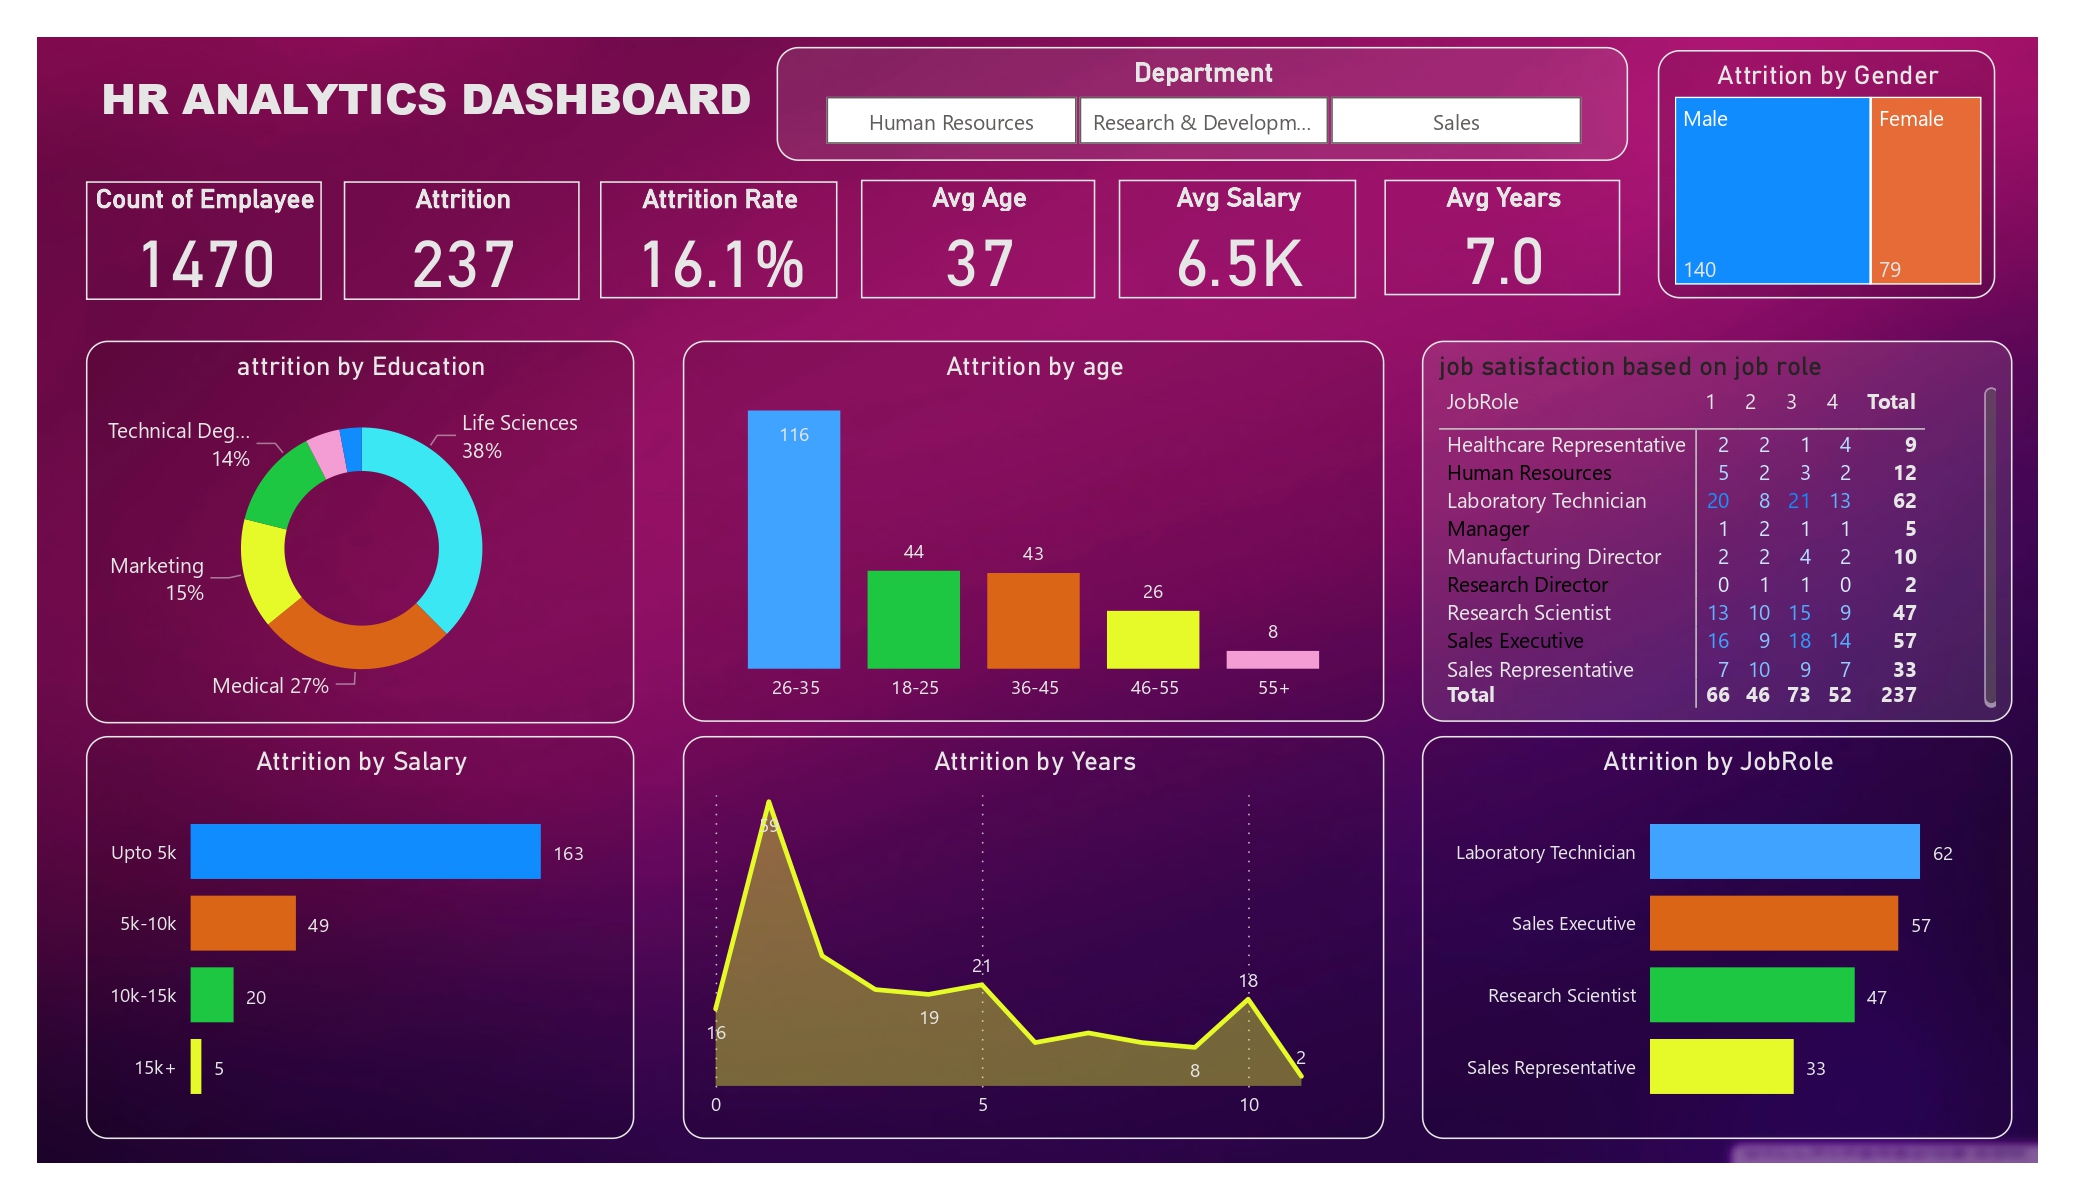

What the dashboard file says about the page in this screenshot:
{"tool":"powerbi","page":{"name":"Page 1","canvas":[1280,720],"ordinal":0},"visuals":[{"type":"card","title":"Count of Emplayee","fields":{"Values":["CountNonNull(HR_Analytics.EmpID)"]},"box":[30.8,92.3,151.3,75.6],"z":0},{"type":"card","title":"Attrition","fields":{"Values":["Sum(HR_Analytics.AttritionCount)"]},"box":[196.2,92.3,151.3,75.6],"z":1000},{"type":"card","title":"Attrition Rate","fields":{"Values":["HR_Analytics.AttritionRate"]},"box":[360.3,92.3,151.3,74.4],"z":2000},{"type":"card","title":"Avg Age","fields":{"Values":["Avg(HR_Analytics.Age)"]},"box":[526.9,91,150,75.6],"z":3000},{"type":"card","title":"Avg Salary","fields":{"Values":["Avg(HR_Analytics.MonthlyIncome)"]},"box":[692.3,91,151.3,75.6],"z":4000},{"type":"card","title":"Avg Years","fields":{"Values":["Avg(HR_Analytics.YearsAtCompany)"]},"box":[861.5,91,151.3,74.4],"z":5000},{"type":"donutChart","title":"attrition by Education","fields":{"Category":["HR_Analytics.EducationField"],"Y":["Sum(HR_Analytics.AttritionCount)"]},"box":[31.4,194.2,351,244.8],"z":6000},{"type":"columnChart","title":"Attrition by age","fields":{"Category":["HR_Analytics.AgeGroup"],"Y":["Sum(HR_Analytics.AttritionCount)"]},"box":[412.8,193.6,448.7,244.9],"z":7000},{"type":"barChart","title":"Attrition by Salary","fields":{"Category":["HR_Analytics.SalarySlab"],"Y":["Sum(HR_Analytics.AttritionCount)"]},"box":[30.8,447.4,351.3,257.7],"z":8000},{"type":"barChart","title":"Attrition by JobRole","fields":{"Category":["HR_Analytics.JobRole"],"Y":["Sum(HR_Analytics.AttritionCount)"]},"box":[885.9,447.4,378.2,257.7],"z":9000},{"type":"areaChart","title":"Attrition by Years","fields":{"Category":["HR_Analytics.YearsAtCompany"],"Y":["Sum(HR_Analytics.AttritionCount)"]},"box":[412.8,447.4,448.7,257.7],"z":10000},{"type":"treemap","title":"Attrition by Gender","fields":{"Group":["HR_Analytics.Gender"],"Values":["Sum(HR_Analytics.AttritionCount)"]},"box":[1037.2,7.7,215.4,159],"z":11000},{"type":"slicer","title":"Department","fields":{"Values":["HR_Analytics.Department"]},"box":[473.1,6.4,544.9,73.1],"z":12000},{"type":"textbox","box":[30.8,15.4,435.9,71.8],"z":13000},{"type":"pivotTable","title":"job satisfaction based on job role","fields":{"Values":["Sum(HR_Analytics.AttritionCount)"],"Rows":["HR_Analytics.JobRole"],"Columns":["HR_Analytics.JobSatisfaction"]},"box":[885.9,193.6,378.2,244.9],"z":14000}]}

Visuals, with their boxes on the page's 1280x720 design canvas (x1, y1, x2, y2). These are canvas units, not pixel positions in the 2075x1200 screenshot, which may show the page scaled, cropped or inside an application window:
"Count of Emplayee" card: (31, 92, 182, 168)
"Attrition" card: (196, 92, 348, 168)
"Attrition Rate" card: (360, 92, 512, 167)
"Avg Age" card: (527, 91, 677, 167)
"Avg Salary" card: (692, 91, 844, 167)
"Avg Years" card: (862, 91, 1013, 165)
"attrition by Education" donutChart: (31, 194, 382, 439)
"Attrition by age" columnChart: (413, 194, 862, 438)
"Attrition by Salary" barChart: (31, 447, 382, 705)
"Attrition by JobRole" barChart: (886, 447, 1264, 705)
"Attrition by Years" areaChart: (413, 447, 862, 705)
"Attrition by Gender" treemap: (1037, 8, 1253, 167)
"Department" slicer: (473, 6, 1018, 80)
textbox: (31, 15, 467, 87)
"job satisfaction based on job role" pivotTable: (886, 194, 1264, 438)
